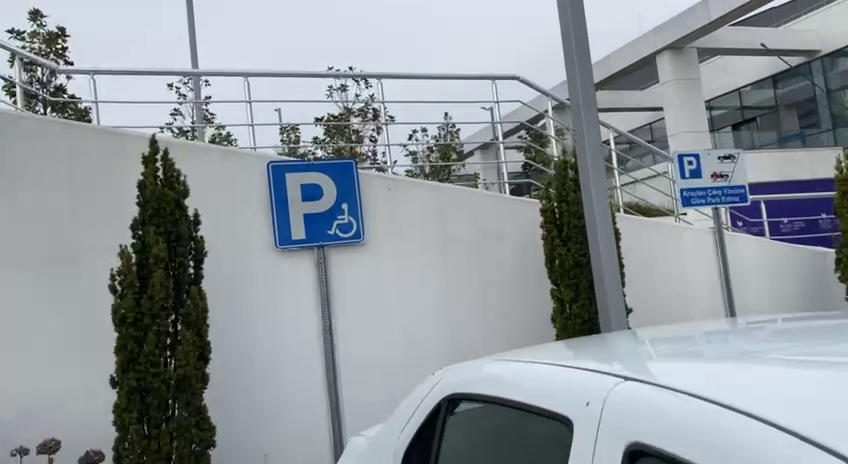parking: (266, 156, 366, 251), (675, 153, 703, 181)
